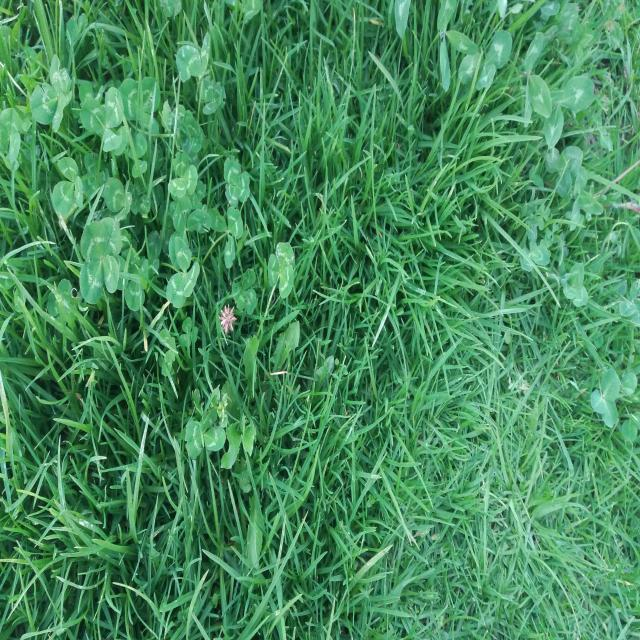Four Leaf Clover: (79, 217, 121, 304)
